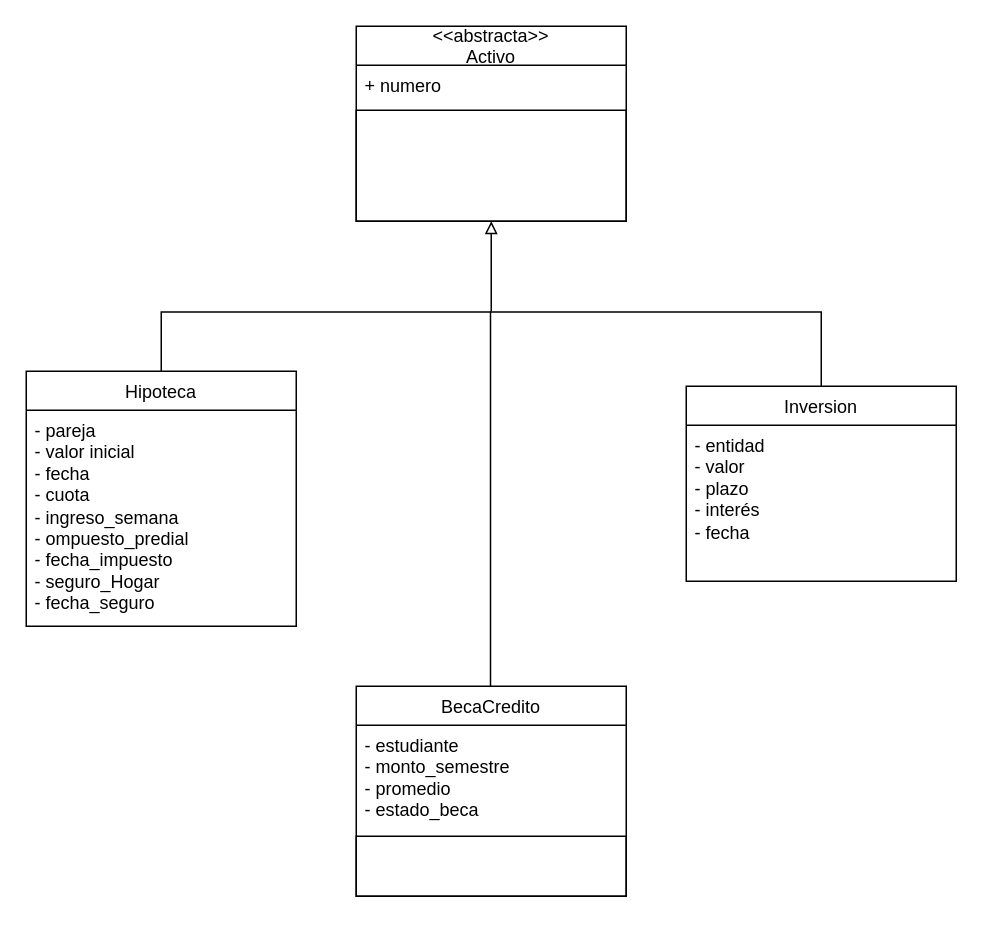
This 983x927 diagram has some shape labels left out. The box of each missing label's shape, as (x1, y1, x2, y2) in pixels:
+ Crear () + Eliminar () + Modificar () + Consultar (): (355, 109, 626, 221)
+ RegistrarNotas () + EvaluarCondonación (): (355, 835, 626, 896)
